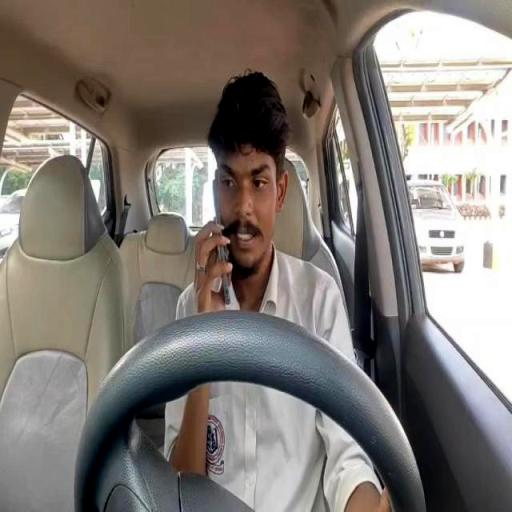Talking_on_phone: (190, 71, 289, 337)
